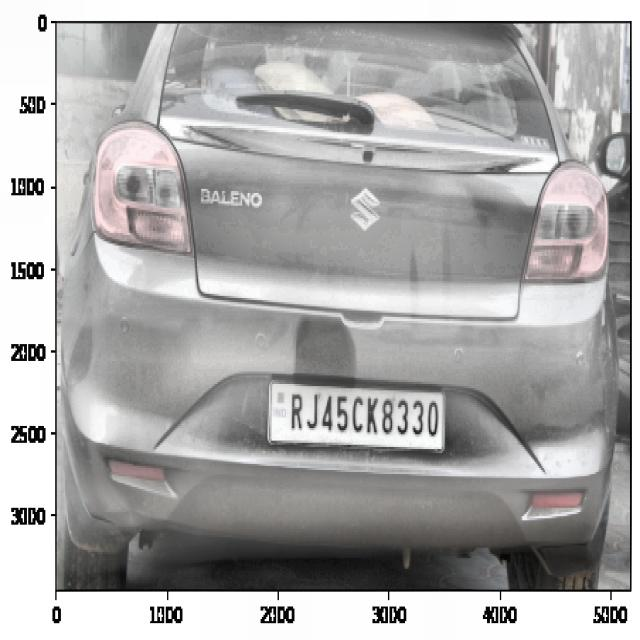license_plate: (283, 384, 444, 447)
